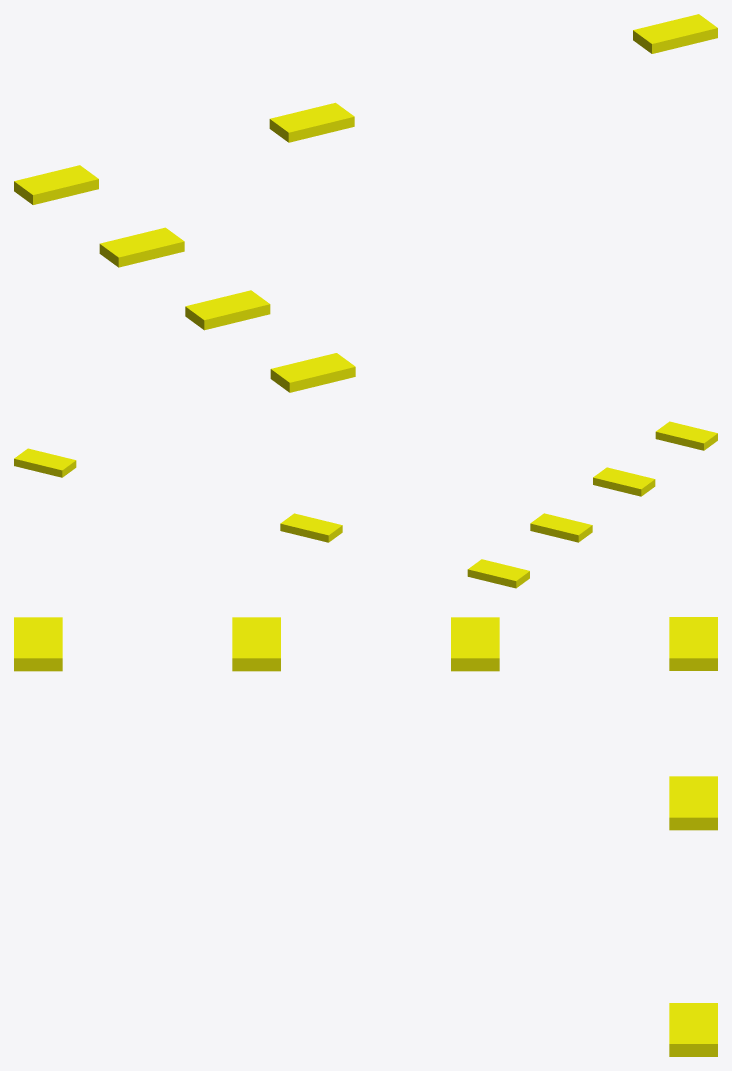
The picture shows the model from 3 angles, top to bottom: view 1: azimuth 30°, elevation 25°; view 2: azimuth 150°, elevation 25°; view 3: azimuth 270°, elevation 25°; orthographic projection. The views are drawn at different scales.
Size of the model in its own units: 41.52 by 0.5833 by 28.93.
